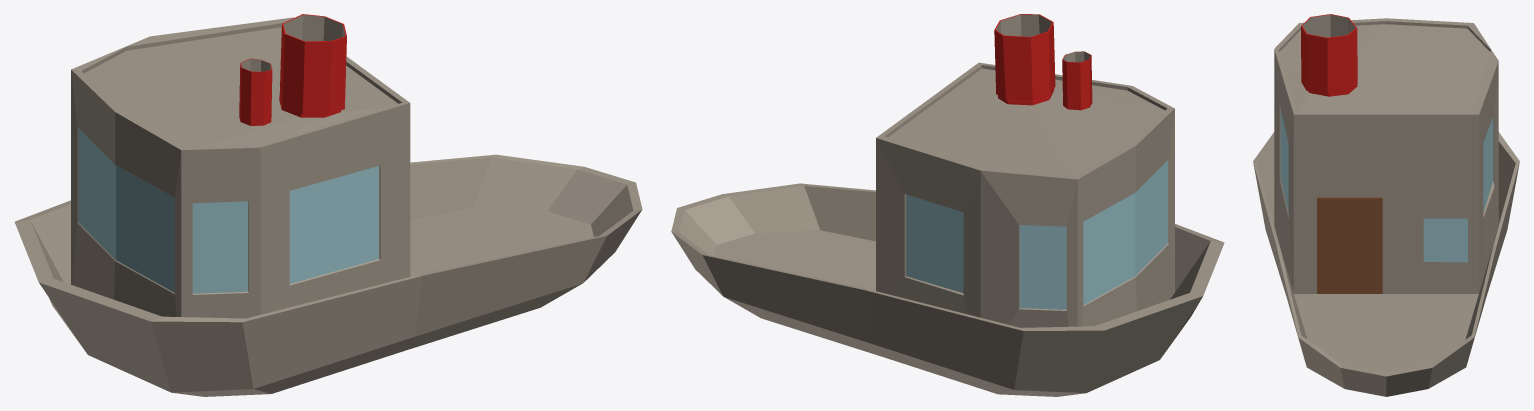
File: Barquinho.fbx
3 views of the same model, side by side, from view 1: azimuth 30°, elevation 25°; view 2: azimuth 150°, elevation 25°; view 3: azimuth 270°, elevation 25° (orthographic). The views are drawn at different scales.
Visible parts, largest first — view 1: Barco; view 2: Barco; view 3: Barco.
Boxes of the visible parts, bbox=[...] form: Barco: bbox=[14, 14, 642, 396]; Barco: bbox=[671, 14, 1224, 396]; Barco: bbox=[1253, 14, 1519, 396].
Size of the model in its own units: 2052 by 1119 by 1002.
